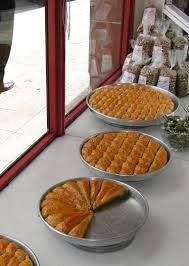baklava: (81, 131, 168, 175), (87, 83, 175, 120)
